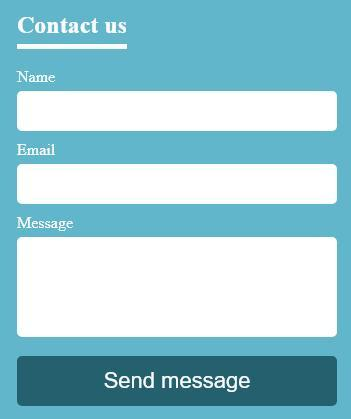button: (18, 357, 339, 409)
input: (17, 92, 339, 133), (18, 166, 339, 205)
label: (19, 15, 129, 36), (18, 215, 79, 235), (16, 142, 60, 162), (18, 70, 58, 87)
